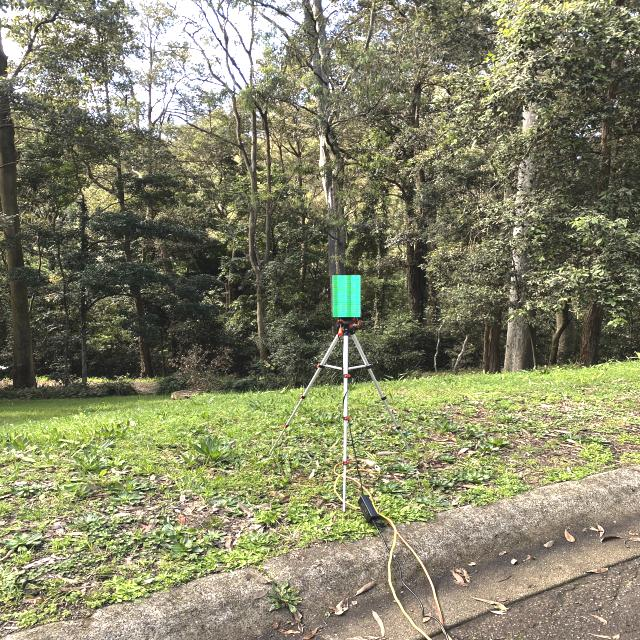matrix: (328, 270, 368, 324)
